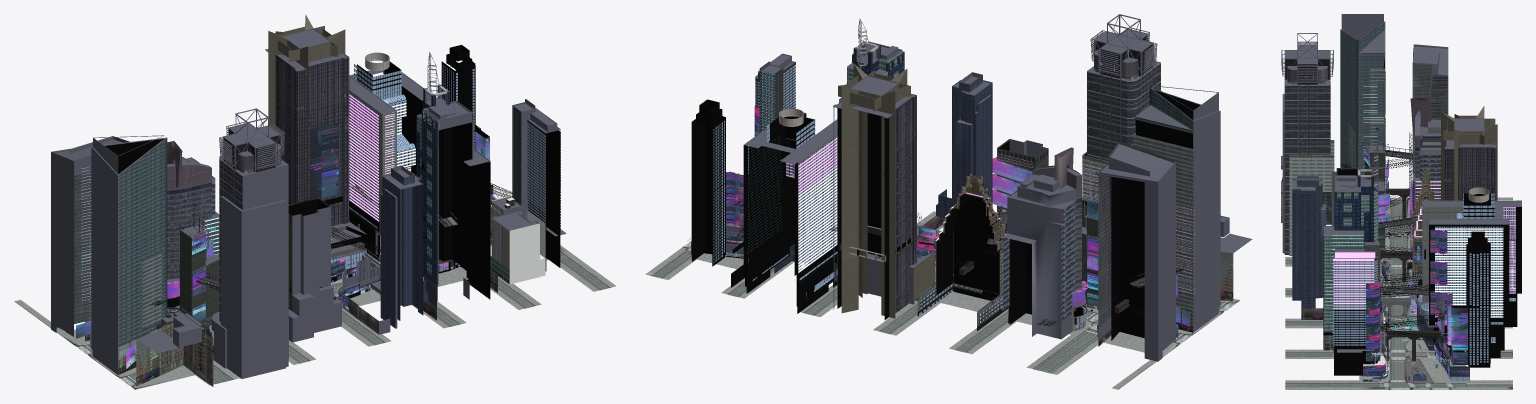
The model's file is city10feb-transformed.glb.
The picture shows the model from 3 angles, left to right: view 1: azimuth 30°, elevation 25°; view 2: azimuth 150°, elevation 25°; view 3: azimuth 270°, elevation 25°; orthographic projection. The views are drawn at different scales.
Parts seen in each view (by area): view 1: Object_14, Object_180, Object_41, Object_26, Object_17, Object_32, Object_11, Object_44.002, Object_68, Object_186, BézierCurve.062, Object_189 (+1 smaller); view 2: Object_14, Object_26, Object_180, Object_41, Object_32, Object_17, Object_44.002, Object_11, Object_186, Object_189, BézierCurve.062; view 3: Object_180, Object_14, Object_26, Object_41, Object_32, Object_17, Object_11, Plane.007, BézierCurve.062, Object_44.002, Cube.029, Cube.031 (+3 smaller).
Boxes of the visible parts, box(x1,y1,x2,y2) form: Object_14: box(51, 28, 565, 378); Object_180: box(74, 55, 490, 368); Object_41: box(85, 14, 560, 386); Object_26: box(105, 45, 560, 307); Object_17: box(167, 61, 560, 332); Object_32: box(14, 196, 616, 389); Object_11: box(206, 99, 534, 286); Object_44.002: box(90, 103, 560, 317); Object_68: box(490, 197, 566, 284); Object_186: box(76, 224, 453, 368); BézierCurve.062: box(149, 183, 512, 313); Object_189: box(195, 94, 378, 300); Object_14: box(683, 14, 1252, 361); Object_26: box(691, 67, 1199, 340); Object_180: box(839, 41, 1200, 326); Object_41: box(755, 29, 1233, 346); Object_32: box(645, 211, 1239, 389); Object_17: box(713, 65, 1086, 330); Object_44.002: box(786, 153, 1194, 293); Object_11: box(691, 61, 1177, 296); Object_186: box(774, 200, 1189, 338); Object_189: box(798, 138, 1094, 254); BézierCurve.062: box(732, 200, 1144, 326); Object_180: box(1284, 22, 1496, 332); Object_14: box(1281, 14, 1521, 389); Object_26: box(1322, 58, 1521, 380); Object_41: box(1281, 59, 1515, 362); Object_32: box(1285, 197, 1512, 389); Object_17: box(1333, 193, 1515, 381); Object_11: box(1361, 158, 1469, 380); Plane.007: box(1326, 86, 1503, 332); BézierCurve.062: box(1341, 158, 1446, 342); Object_44.002: box(1333, 181, 1515, 308); Cube.029: box(1380, 188, 1440, 360); Cube.031: box(1378, 147, 1428, 295).
Bounding box in the file's own units: 29.8 × 15.33 × 15.74.
23 materials, 21 textured.
